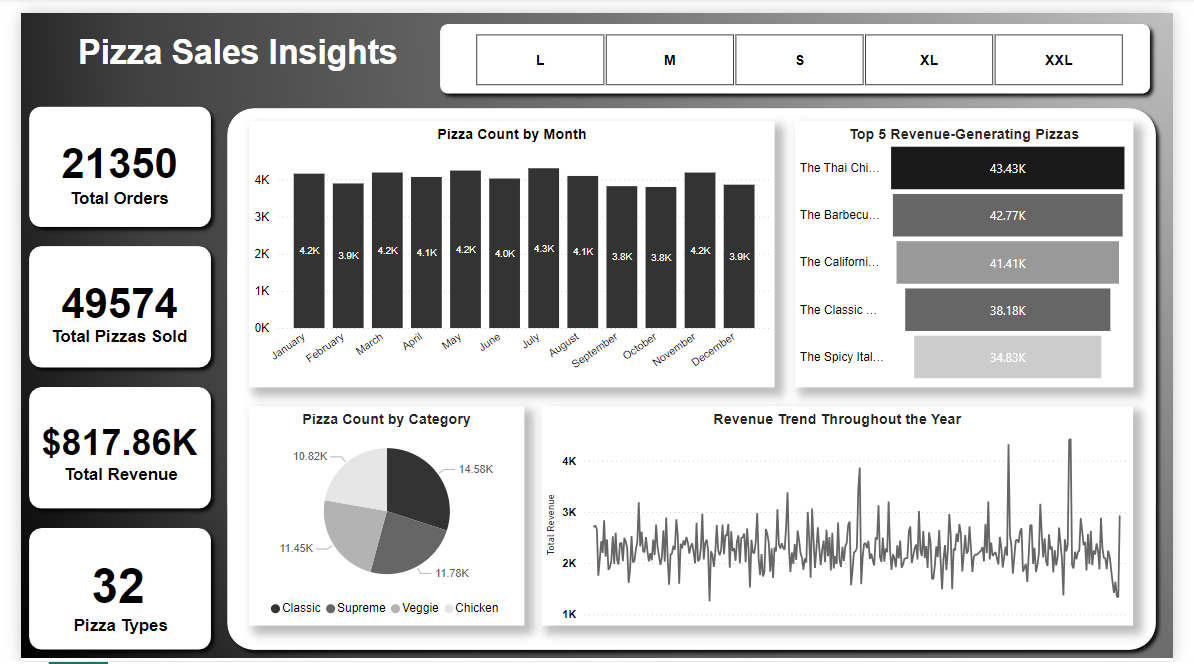

The page's visual inventory and layout, read from the dashboard file:
{"tool":"powerbi","page":{"name":"Page 1","canvas":[1280,720],"ordinal":0},"visuals":[{"type":"shape","box":[456.7,3.3,806.7,95],"z":0},{"type":"shape","box":[220,96,1050,620],"z":1000},{"type":"shape","box":[0,562.9,220,152.9],"z":2000},{"type":"shape","box":[0,406.5,220,152.9],"z":3000},{"type":"shape","box":[0,250.2,220,152.9],"z":4000},{"type":"shape","box":[0,95,220,151.7],"z":5000},{"type":"card","title":"Total Orders","fields":{"Values":["Count(pizzasales.order_id)"]},"box":[16.7,120,185,101.7],"z":6000},{"type":"card","title":"Total Pizzas Sold","fields":{"Values":["Sum(pizzasales.quantity)"]},"box":[16.7,263.3,185,126.7],"z":7000},{"type":"card","fields":{"Values":["Sum(pizzasales.total_price)"]},"box":[16.7,425,185,115],"z":8000},{"type":"textbox","box":[20,16.7,441.7,65],"z":9000},{"type":"columnChart","title":"Pizza Count by Month","fields":{"Category":["pizzasales.order_date.Variation.Date Hierarchy.Month"],"Y":["Count(pizzasales.pizza_id)"]},"box":[252.9,120,584.3,295.7],"z":10000},{"type":"pieChart","title":"Pizza Count by Category","fields":{"Category":["pizzasales.pizza_category"],"Y":["Count(pizzasales.pizza_id)"]},"box":[252.9,437.1,305.7,244.3],"z":11000},{"type":"card","fields":{"Values":["Count(pizzasales.pizza_name)"]},"box":[16.7,583.3,181.7,113.3],"z":12000},{"type":"slicer","fields":{"Values":["pizzasales.pizza_size"]},"box":[480,16.7,768.3,70],"z":13000},{"type":"lineChart","title":"Revenue Trend Throughout the Year","fields":{"Y":["Sum(pizzasales.total_price)"],"Category":["pizzasales.order_date.Variation.Date Hierarchy.Year","pizzasales.order_date.Variation.Date Hierarchy.Quarter","pizzasales.order_date.Variation.Date Hierarchy.Month","pizzasales.order_date.Variation.Date Hierarchy.Day"]},"box":[578.6,437.1,657.1,244.3],"z":14000},{"type":"funnel","title":"Top 5 Revenue-Generating Pizzas","fields":{"Category":["pizzasales.pizza_name"],"Y":["Sum(pizzasales.total_price)"]},"box":[860,120,375.7,295.7],"z":15000},{"type":"textbox","box":[15,190,188.3,32],"z":16000},{"type":"textbox","box":[15,343.3,188.3,32],"z":17000},{"type":"textbox","box":[16.7,496.7,188.3,32],"z":18000},{"type":"textbox","box":[16.7,665,188.3,32],"z":19000}]}

Visuals, with their boxes in screenshot pixels (x1, y1, x2, y2), scaled from the page's 1280x720 canvas onto the 1194x664 screenshot:
shape: [426, 3, 1179, 91]
shape: [205, 89, 1185, 660]
shape: [0, 519, 205, 660]
shape: [0, 375, 205, 516]
shape: [0, 231, 205, 372]
shape: [0, 88, 205, 228]
"Total Orders" card: [16, 111, 188, 204]
"Total Pizzas Sold" card: [16, 243, 188, 360]
card - Sum(pizzasales.total_price): [16, 392, 188, 498]
textbox: [19, 15, 431, 75]
"Pizza Count by Month" columnChart: [236, 111, 781, 383]
"Pizza Count by Category" pieChart: [236, 403, 521, 628]
card - Count(pizzasales.pizza_name): [16, 538, 185, 642]
slicer - pizzasales.pizza_size: [448, 15, 1164, 80]
"Revenue Trend Throughout the Year" lineChart: [540, 403, 1153, 628]
"Top 5 Revenue-Generating Pizzas" funnel: [802, 111, 1153, 383]
textbox: [14, 175, 190, 205]
textbox: [14, 317, 190, 346]
textbox: [16, 458, 191, 488]
textbox: [16, 613, 191, 643]
